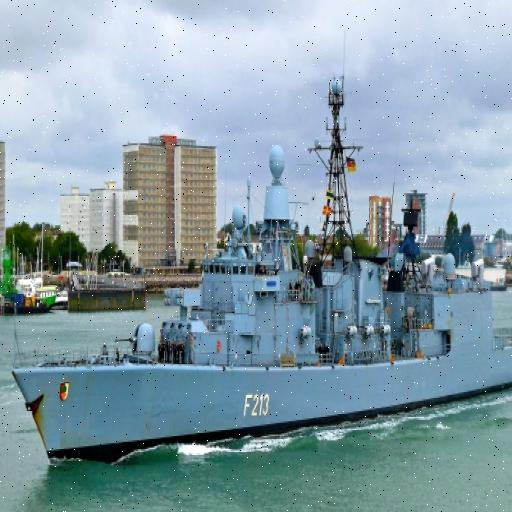Fragata: (8, 62, 512, 472)
